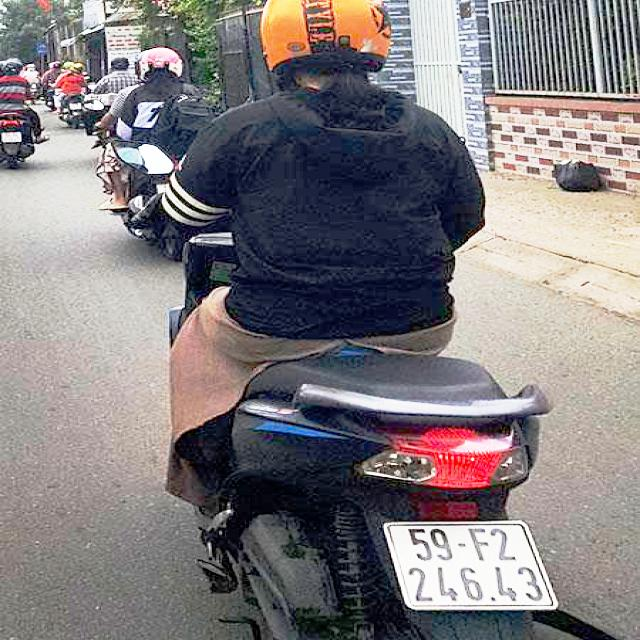license_plate: (383, 521, 557, 608)
